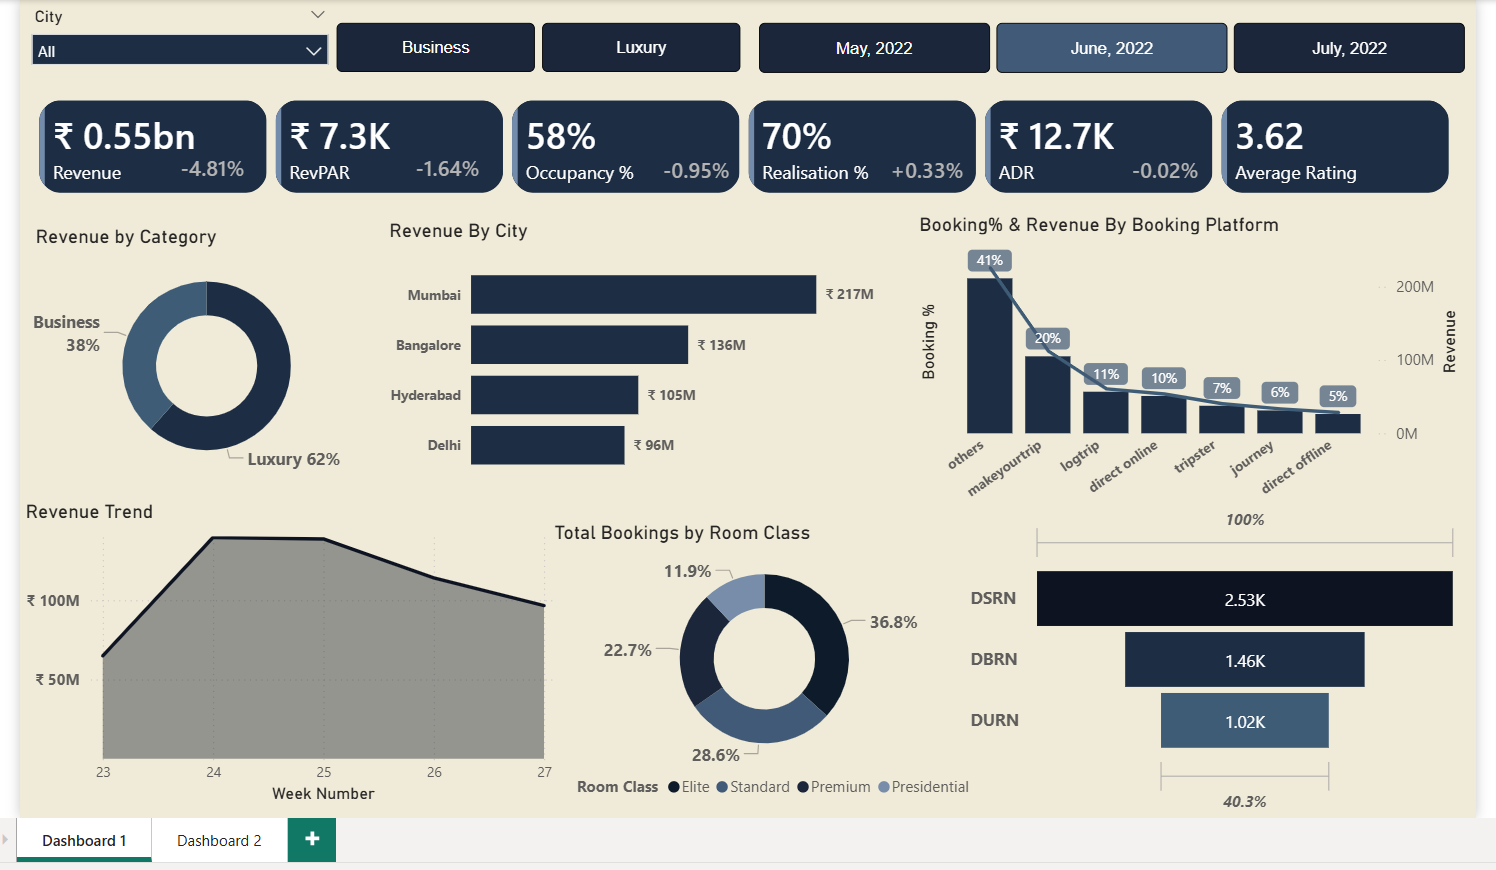

This screenshot's page, from the dashboard's own definition file:
{"tool":"powerbi","page":{"name":"Dashboard 1","canvas":[1280,720],"ordinal":0},"visuals":[{"type":"cardVisual","fields":{"Data":["Key_Measures.Revenue","Key_Measures.RevPAR","Key_Measures.Occupancy %","Key_Measures.Realisation %","Key_Measures.ADR","Key_Measures.Average Rating"]},"box":[0,71.2,1278.8,115.8],"z":0},{"type":"funnel","fields":{"Y":["Key_Measures.DSRN","Key_Measures.DBRN","Key_Measures.DURN"]},"box":[831,439.3,439.3,281],"z":1000},{"type":"clusteredBarChart","title":"Revenue By City","fields":{"Y":["Key_Measures.Revenue"],"Category":["dim_hotels.city"]},"box":[319.5,192.7,450,240.5],"z":3000},{"type":"slicer","fields":{"Values":["dim_hotels.city"]},"box":[0,1.2,281,70.2],"z":4000},{"type":"ChicletSlicer1448559807354","fields":{"Category":["dim_hotels.category"]},"box":[270.2,11.9,371.4,70.2],"z":5000},{"type":"ChicletSlicer1448559807354","fields":{"Category":["dim_date.Month Year"]},"box":[641.7,11.9,636.9,65.5],"z":6000},{"type":"lineStackedColumnComboChart","title":"Booking% & Revenue By Booking Platform","fields":{"Category":["fact_bookings.booking_platform"],"Y":["Key_Measures.Total Bookings"],"Y2":["Key_Measures.Revenue"]},"box":[785.7,186.9,484.5,271.4],"z":7000},{"type":"donutChart","fields":{"Y":["Key_Measures.Revenue"],"Category":["dim_hotels.category"]},"box":[8.4,197.7,311.1,229.1],"z":8000},{"type":"stackedAreaChart","title":"Revenue Trend","fields":{"Y":["Key_Measures.Revenue"],"Category":["dim_date.Month Year.Variation.Date Hierarchy.Month","dim_date.Week Number"]},"box":[0,439.3,476.2,271.4],"z":9000},{"type":"cardVisual","fields":{"Data":["Key_Measures.Revenue MoM % Change"]},"box":[111.8,96,147.9,101.6],"z":10000},{"type":"cardVisual","fields":{"Data":["Key_Measures.Realisation MoM % Change"]},"box":[736.2,108.4,153.6,79],"z":11000},{"type":"cardVisual","fields":{"Data":["Key_Measures.Occupancy MoM % Change"]},"box":[536.3,103.9,149,89.2],"z":12000},{"type":"cardVisual","fields":{"Data":["Key_Measures.RevPAR MoM % Change"]},"box":[318.4,102.8,145.7,89.2],"z":13000},{"type":"cardVisual","fields":{"Data":["Key_Measures.ADR MoM % Change"]},"box":[948.5,102.8,189.7,92.6],"z":14000},{"type":"donutChart","fields":{"Category":["dim_rooms.room_class"],"Y":["Key_Measures.Total Bookings"]},"box":[465.5,458.3,379.8,252.4],"z":15000}]}

Visuals, with their boxes on the page's 1280x720 design canvas (x1, y1, x2, y2). These are canvas units, not pixel positions in the 1496x870 screenshot, which may show the page scaled, cropped or inside an application window:
cardVisual - Key_Measures.Revenue x Key_Measures.RevPAR: l=0, t=71, r=1279, b=187
funnel - Key_Measures.DSRN x Key_Measures.DBRN: l=831, t=439, r=1270, b=720
"Revenue By City" clusteredBarChart: l=320, t=193, r=770, b=433
slicer - dim_hotels.city: l=0, t=1, r=281, b=71
ChicletSlicer1448559807354 - dim_hotels.category: l=270, t=12, r=642, b=82
ChicletSlicer1448559807354 - dim_date.Month Year: l=642, t=12, r=1279, b=77
"Booking% & Revenue By Booking Platform" lineStackedColumnComboChart: l=786, t=187, r=1270, b=458
donutChart - Key_Measures.Revenue x dim_hotels.category: l=8, t=198, r=320, b=427
"Revenue Trend" stackedAreaChart: l=0, t=439, r=476, b=711
cardVisual - Key_Measures.Revenue MoM % Change: l=112, t=96, r=260, b=198
cardVisual - Key_Measures.Realisation MoM % Change: l=736, t=108, r=890, b=187
cardVisual - Key_Measures.Occupancy MoM % Change: l=536, t=104, r=685, b=193
cardVisual - Key_Measures.RevPAR MoM % Change: l=318, t=103, r=464, b=192
cardVisual - Key_Measures.ADR MoM % Change: l=948, t=103, r=1138, b=195
donutChart - dim_rooms.room_class x Key_Measures.Total Bookings: l=466, t=458, r=845, b=711
